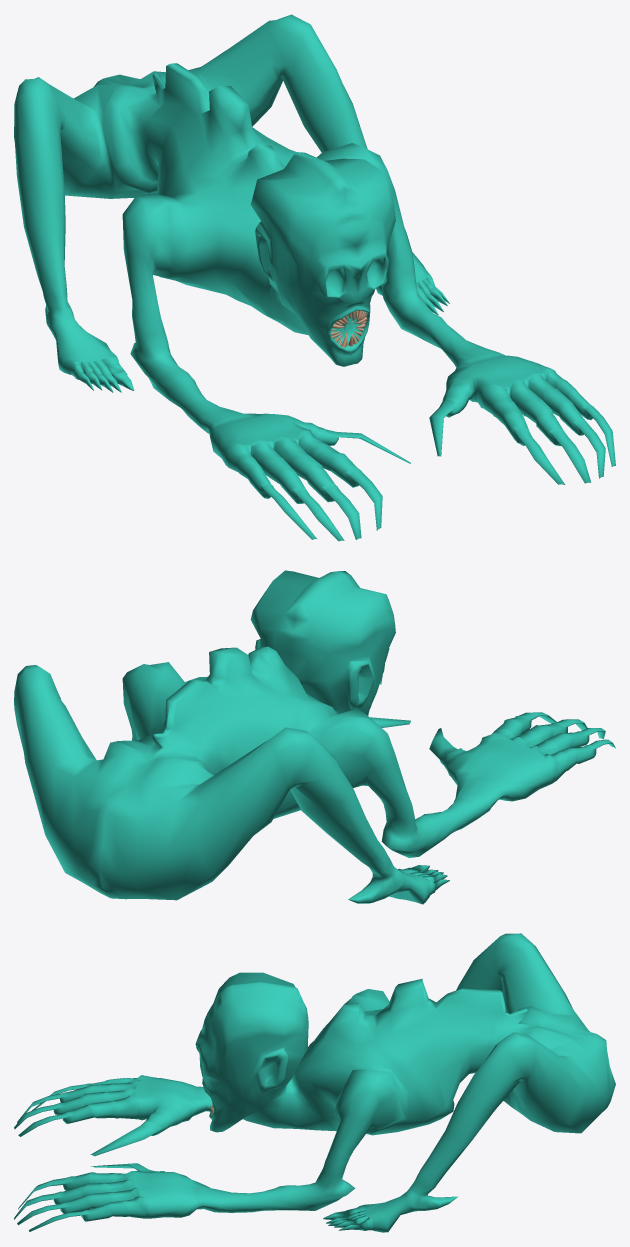
The model's file is Puppy_v01_Unwrap.fbx.
3 views of the same model, one above another, from view 1: azimuth 30°, elevation 25°; view 2: azimuth 150°, elevation 25°; view 3: azimuth 270°, elevation 25° (orthographic). The views are drawn at different scales.
Parts seen in each view (by area): view 1: Attacker; view 2: Attacker; view 3: Attacker.
Part boxes in pixels (x1,y1,x2,y2): Attacker: [14, 14, 615, 541]; Attacker: [14, 570, 615, 904]; Attacker: [14, 933, 615, 1232].
Size of the model in its own units: 247 by 155 by 437.
